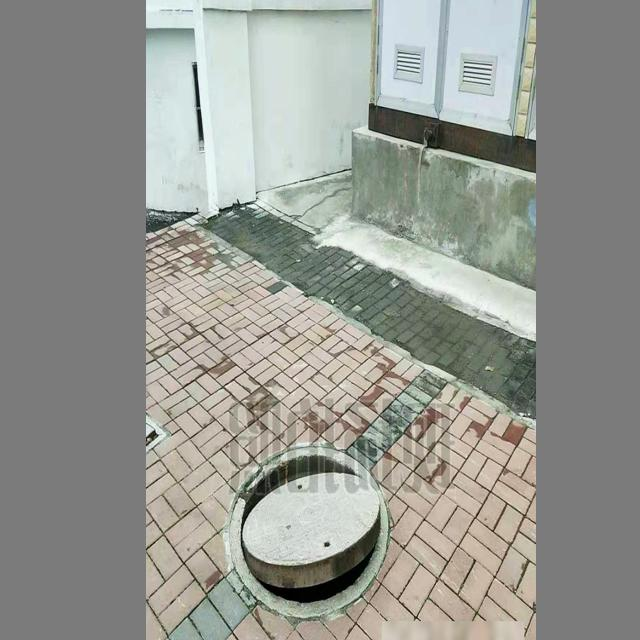uncovered: (228, 443, 389, 619)
